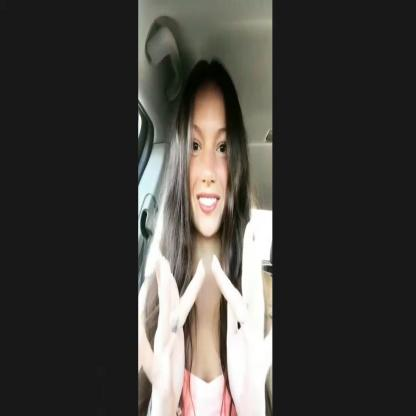Internet: (139, 230, 271, 416)
